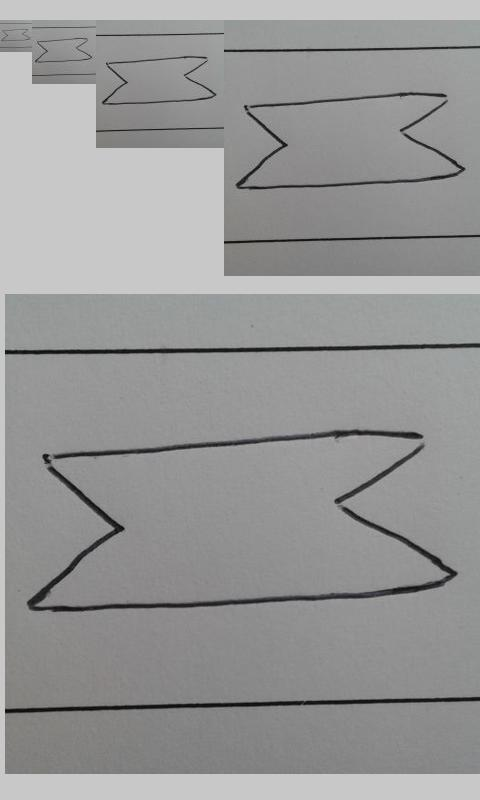edit_text: (26, 425, 454, 617), (234, 91, 463, 189), (101, 55, 216, 105), (34, 37, 93, 63), (1, 28, 31, 42)
